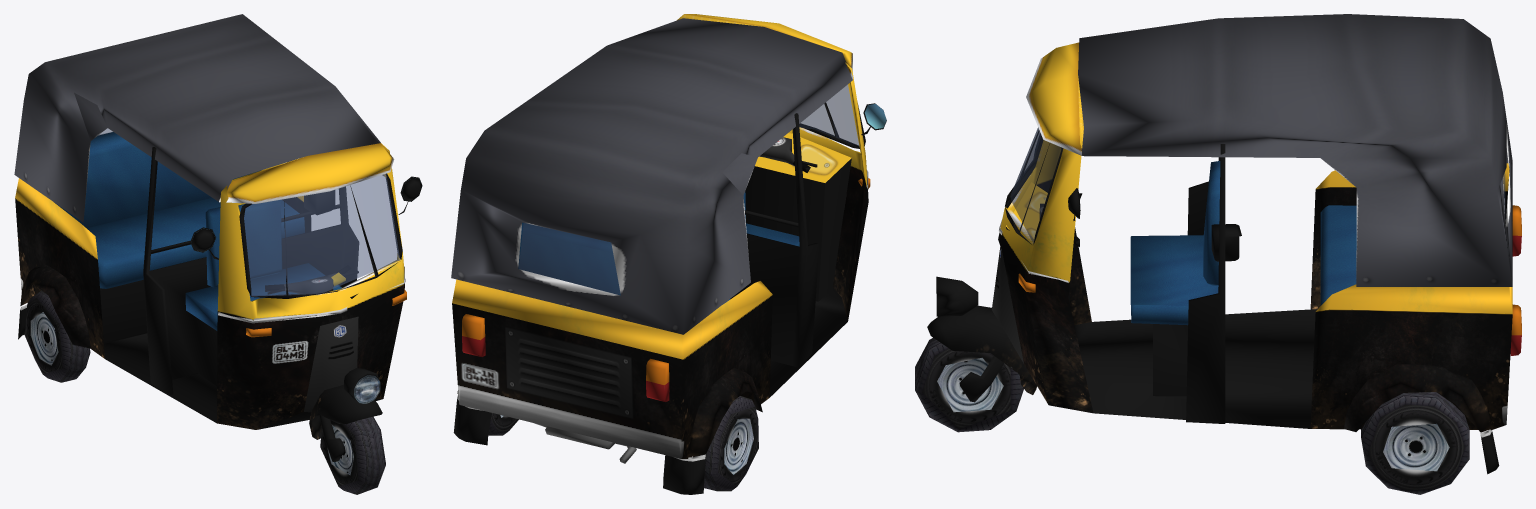
The model's file is autorickshaw.glb.
The picture shows the model from 3 angles, left to right: view 1: azimuth 30°, elevation 25°; view 2: azimuth 150°, elevation 25°; view 3: azimuth 270°, elevation 25°; orthographic projection. The views are drawn at different scales.
Parts seen in each view (by area): view 1: Plane.001_3, Plane_2, Cylinder_4, Plane.003_10, Cylinder.001_5, Plane.005_12, Plane.004_11, Cylinder.002_6, Plane.010_18, Sphere_7, Plane.006_13, Cylinder.003_9 (+2 smaller); view 2: Plane.001_3, Plane_2, Cylinder_4, Plane.002_8, Plane.003_10, Cylinder.001_5, Plane.012_21, Plane.004_11, Plane.006_13, Plane.005_12, Plane.008_15, Cylinder.003_9 (+1 smaller); view 3: Plane.001_3, Plane_2, Cylinder_4, Cylinder.001_5, Plane.004_11, Plane.005_12, Cylinder.002_6, Plane.003_10, Sphere_7, Plane.006_13, Plane.010_18, Plane.002_8 (+1 smaller).
Part boxes in pixels (x1=…): Plane.001_3: x1=14, y1=14, x2=380, y2=222; Plane_2: x1=15, y1=143, x2=405, y2=429; Cylinder_4: x1=54, y1=132, x2=359, y2=394; Plane.003_10: x1=99, y1=128, x2=400, y2=296; Cylinder.001_5: x1=24, y1=290, x2=385, y2=494; Plane.005_12: x1=219, y1=143, x2=394, y2=203; Plane.004_11: x1=20, y1=265, x2=90, y2=348; Cylinder.002_6: x1=309, y1=384, x2=382, y2=439; Plane.010_18: x1=239, y1=173, x2=402, y2=298; Sphere_7: x1=317, y1=368, x2=380, y2=461; Plane.006_13: x1=190, y1=176, x2=422, y2=337; Cylinder.003_9: x1=265, y1=265, x2=358, y2=294; Plane.001_3: x1=451, y1=18, x2=852, y2=334; Plane_2: x1=452, y1=14, x2=868, y2=458; Cylinder_4: x1=518, y1=113, x2=819, y2=367; Plane.002_8: x1=745, y1=133, x2=851, y2=301; Plane.003_10: x1=518, y1=84, x2=859, y2=294; Cylinder.001_5: x1=488, y1=396, x2=758, y2=491; Plane.012_21: x1=453, y1=394, x2=705, y2=494; Plane.004_11: x1=457, y1=368, x2=762, y2=457; Plane.006_13: x1=462, y1=103, x2=886, y2=401; Plane.005_12: x1=685, y1=14, x2=852, y2=79; Plane.008_15: x1=535, y1=423, x2=636, y2=463; Cylinder.003_9: x1=759, y1=137, x2=817, y2=172; Plane.001_3: x1=1078, y1=14, x2=1512, y2=286; Plane_2: x1=991, y1=76, x2=1512, y2=430; Cylinder_4: x1=1130, y1=144, x2=1356, y2=423; Cylinder.001_5: x1=915, y1=338, x2=1469, y2=494; Plane.004_11: x1=1344, y1=364, x2=1492, y2=432; Plane.005_12: x1=1026, y1=42, x2=1082, y2=155; Cylinder.002_6: x1=927, y1=305, x2=1037, y2=394; Plane.003_10: x1=1010, y1=127, x2=1505, y2=243; Sphere_7: x1=936, y1=276, x2=1009, y2=402; Plane.006_13: x1=1018, y1=188, x2=1521, y2=355; Plane.010_18: x1=1005, y1=130, x2=1063, y2=244; Plane.002_8: x1=1005, y1=182, x2=1069, y2=303.
Size of the model in its own units: 1.64 by 1.98 by 2.97.
4 materials, 3 textured.
